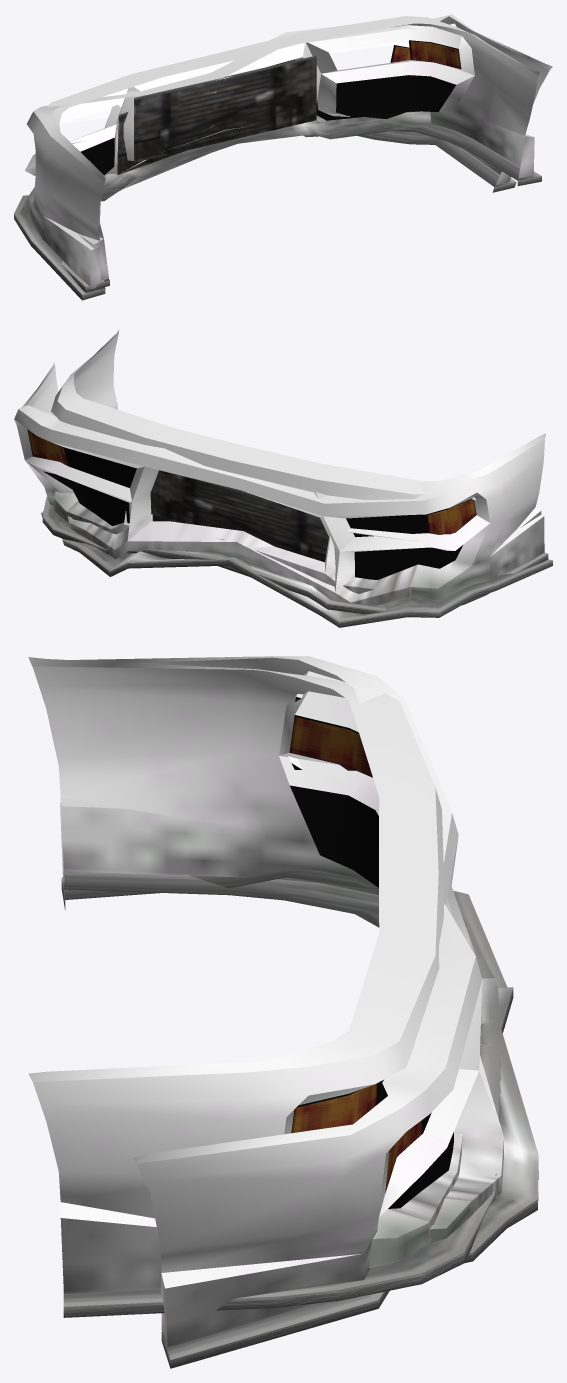
Rendered from fbmp_a_st.glb.
3 renders of one model, top to bottom at view 1: azimuth 30°, elevation 25°; view 2: azimuth 150°, elevation 25°; view 3: azimuth 270°, elevation 25°, orthographic. The views are drawn at different scales.
Visible parts, largest first — view 1: fbmp_a_st, fbmp_a_st_dam; view 2: fbmp_a_st_dam, fbmp_a_st; view 3: fbmp_a_st, fbmp_a_st_dam.
Boxes of the visible parts, <box> form: fbmp_a_st: <box>35,16,541,292</box>; fbmp_a_st_dam: <box>14,14,552,300</box>; fbmp_a_st_dam: <box>14,362,552,627</box>; fbmp_a_st: <box>42,329,548,614</box>; fbmp_a_st: <box>28,657,501,1317</box>; fbmp_a_st_dam: <box>30,656,538,1368</box>.
Bounding box in the file's own units: 2.38 × 0.6978 × 1.09.
4 materials, 4 textured.
